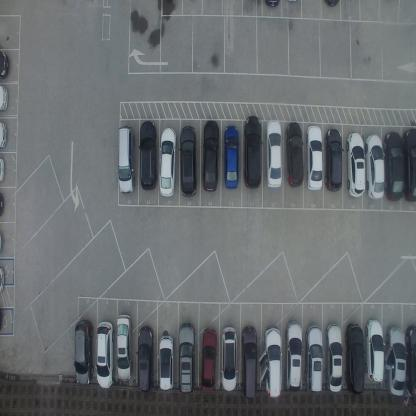car: (383, 131, 405, 202), (385, 324, 406, 396), (344, 322, 365, 394), (178, 124, 198, 198), (242, 115, 262, 188), (263, 324, 282, 398), (74, 318, 94, 387), (304, 324, 323, 396), (346, 130, 366, 197), (158, 124, 176, 198), (285, 320, 303, 394), (304, 124, 324, 190), (365, 134, 385, 200), (264, 119, 283, 188), (241, 324, 258, 401), (139, 120, 157, 192), (177, 322, 195, 394), (202, 118, 219, 193), (285, 121, 304, 188), (117, 124, 135, 194), (325, 323, 343, 393), (365, 316, 384, 382), (136, 326, 154, 394), (96, 320, 114, 388), (324, 128, 342, 193), (200, 326, 217, 394), (222, 124, 240, 188), (116, 312, 132, 382), (221, 326, 237, 392), (402, 128, 416, 202), (158, 333, 174, 392), (405, 324, 415, 396), (0, 49, 10, 80), (0, 83, 9, 112), (0, 120, 8, 152), (0, 191, 6, 217), (0, 156, 5, 186), (0, 266, 5, 296), (0, 229, 5, 254)
